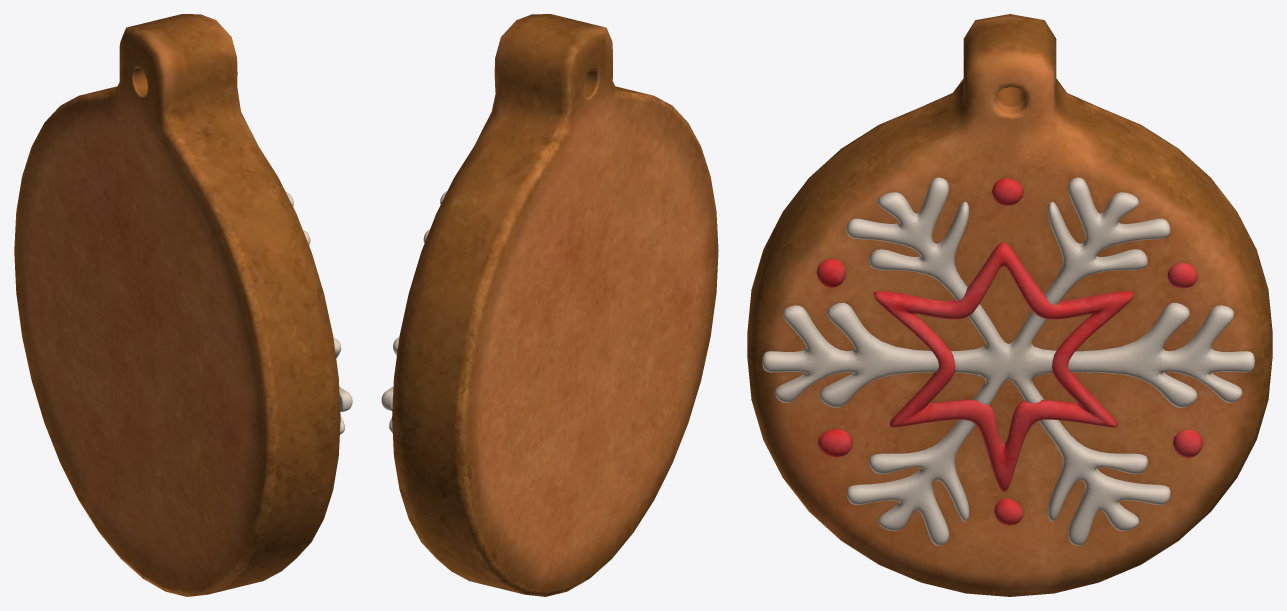
The model's file is ginger-snowflake-1.glb.
The picture shows the model from 3 angles, left to right: view 1: azimuth 30°, elevation 25°; view 2: azimuth 150°, elevation 25°; view 3: azimuth 270°, elevation 25°; orthographic projection.
Parts seen in each view (by area): view 1: Gingerbread snowflake_1; view 2: Gingerbread snowflake_1; view 3: Gingerbread snowflake_1.
Boxes of the visible parts, x1=… form: Gingerbread snowflake_1: x1=14, y1=14, x2=352, y2=596; Gingerbread snowflake_1: x1=381, y1=14, x2=718, y2=596; Gingerbread snowflake_1: x1=747, y1=14, x2=1272, y2=596.
Size of the model in its own units: 0.0144 by 0.076 by 0.0652.
Materials: 1 (1 with a texture image).
